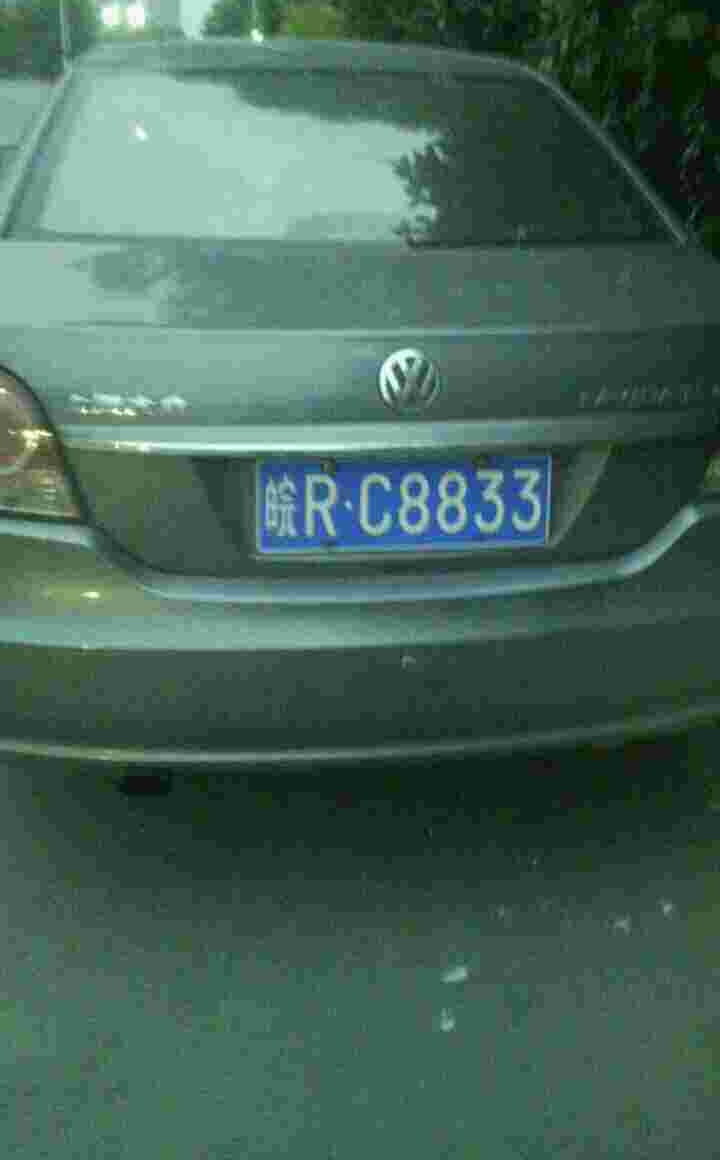license_plate: (261, 463, 539, 561)
